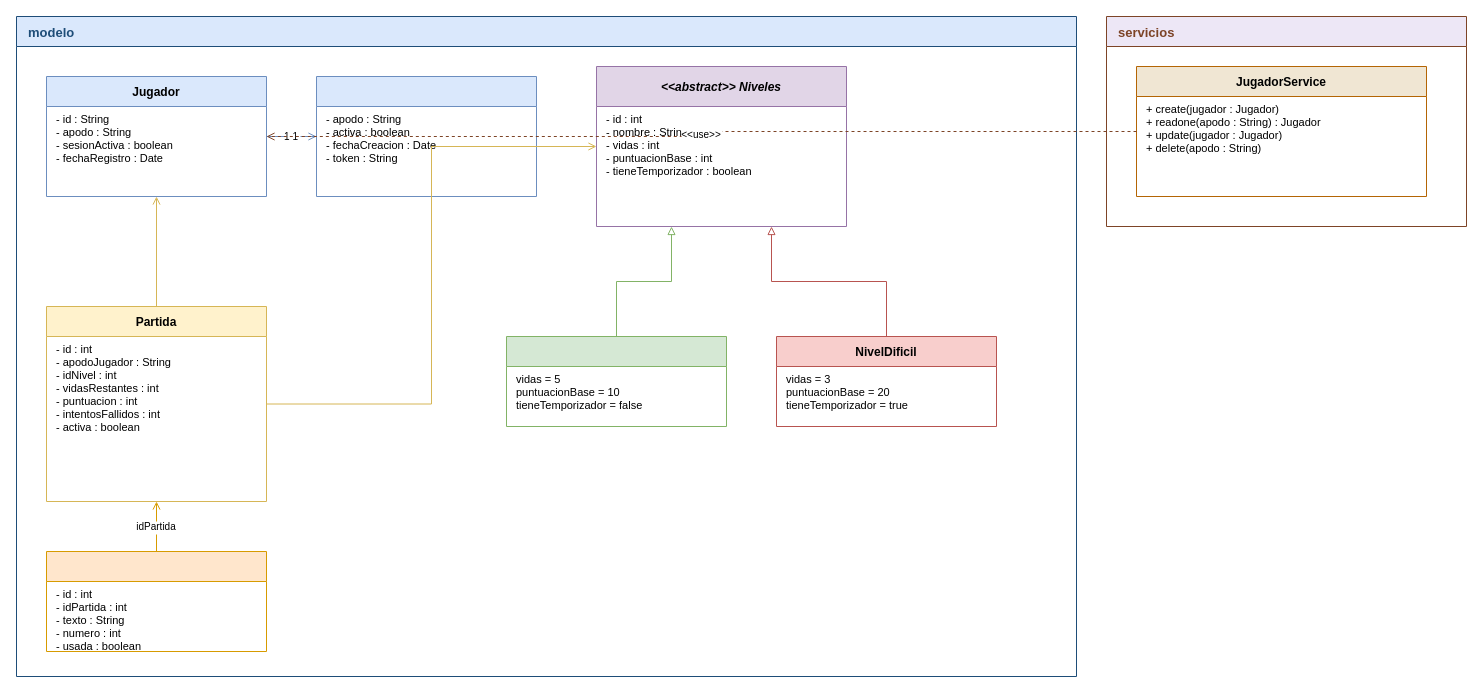
The diagram is 1483 pixels wide and 693 high, and some of its shapes have lost their labels. Each missing label, with the box of its shape:
NivelFacil: (506, 336, 726, 426)
Pista: (46, 550, 266, 652)
Sesion: (316, 76, 536, 196)
